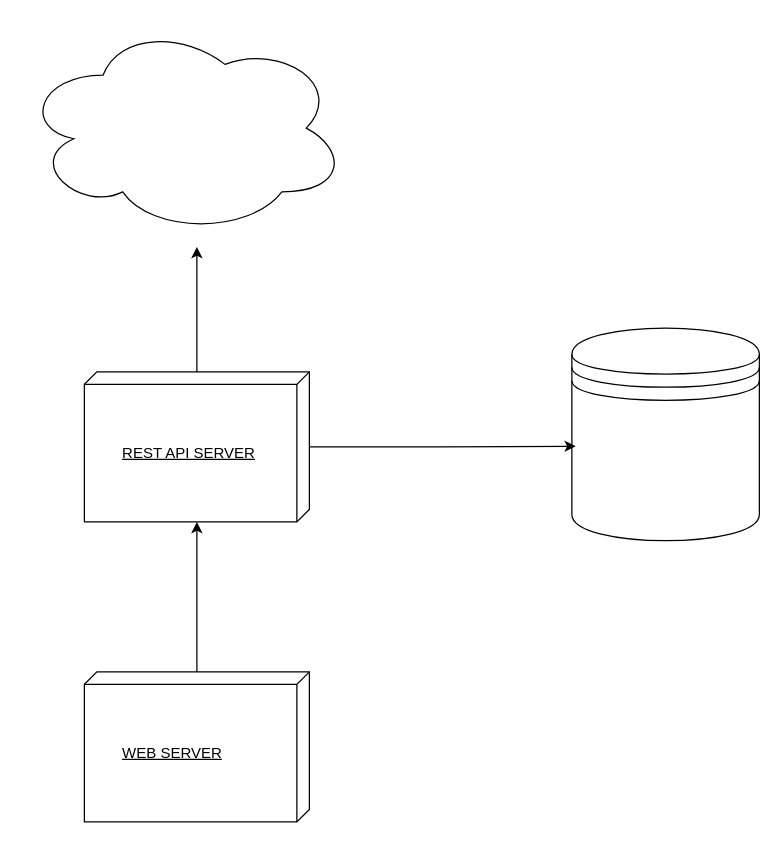
Image size: 781x844. Some labels were removed from this diagram. The shapes that lost their labels are listed below. From the top down, each one's centre as x and y in pixels, then its label:
point 184,127: AMAZON WEB SERVICES (S3)
point 665,434: Database SQL server
